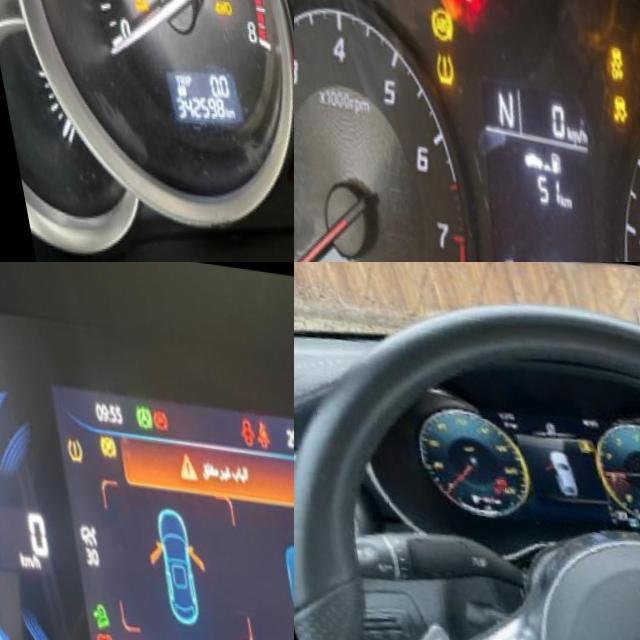Central Warning lamp: (165, 440, 192, 478)
Doors: (230, 405, 251, 440)
Engine cooling system: (635, 482, 640, 496)
